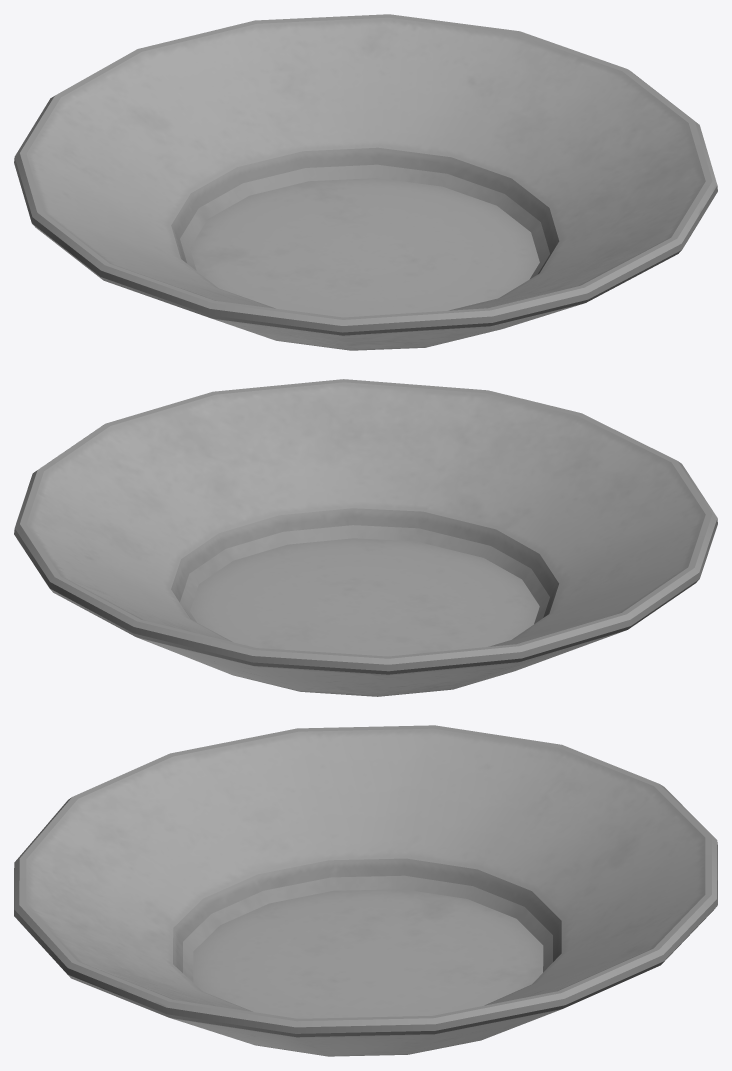
The model's file is plate.fbx.
3 renders of one model, top to bottom at view 1: azimuth 30°, elevation 25°; view 2: azimuth 150°, elevation 25°; view 3: azimuth 270°, elevation 25°, orthographic.
Parts seen in each view (by area): view 1: plate; view 2: plate; view 3: plate.
Boxes of the visible parts, x1,y1,x2,y2 form: plate: (14,14,717,350); plate: (14,379,717,696); plate: (14,725,717,1056).
Size of the model in its own units: 89.18 by 15.43 by 89.15.
